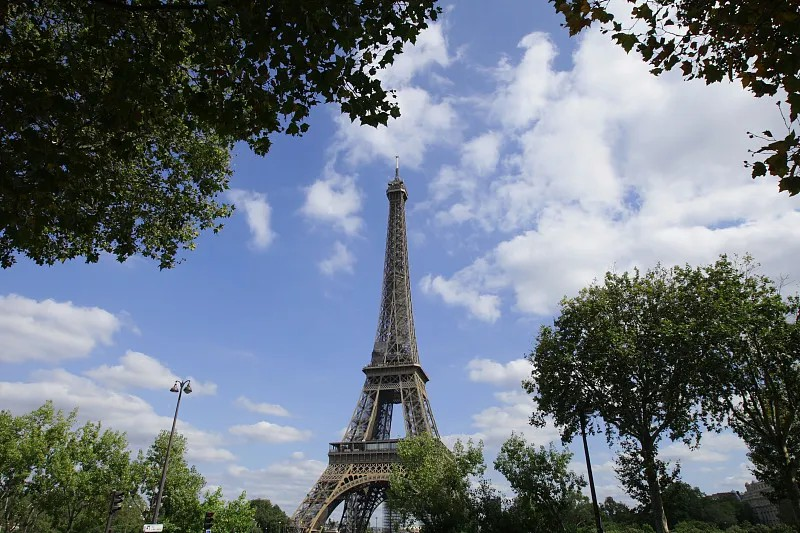Eiffel: (288, 156, 472, 533)
